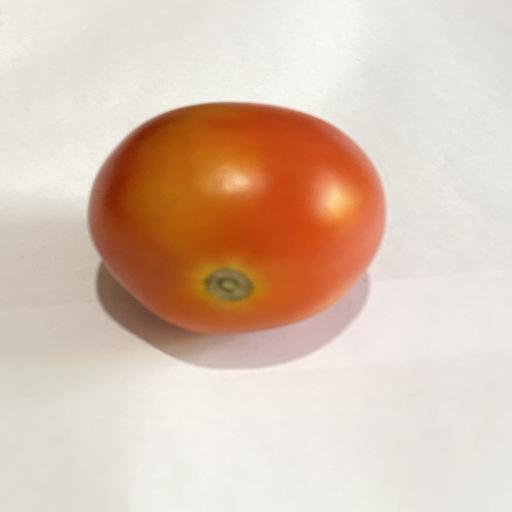ripe: (88, 102, 385, 333)
